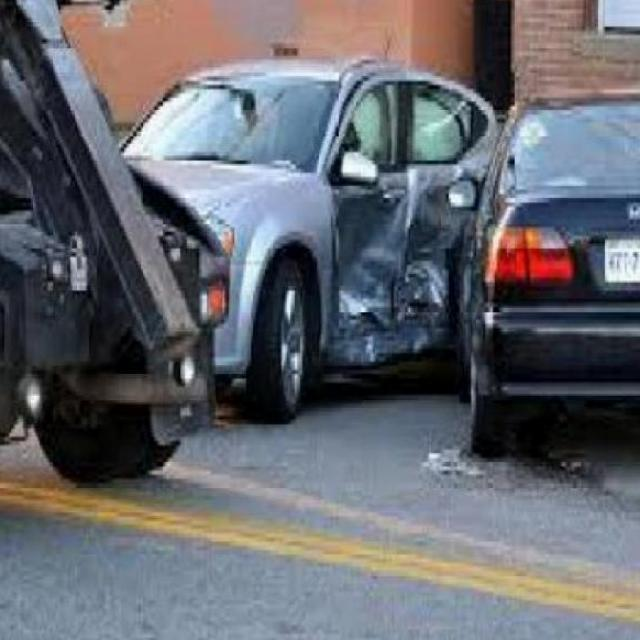accident: (281, 87, 640, 409)
